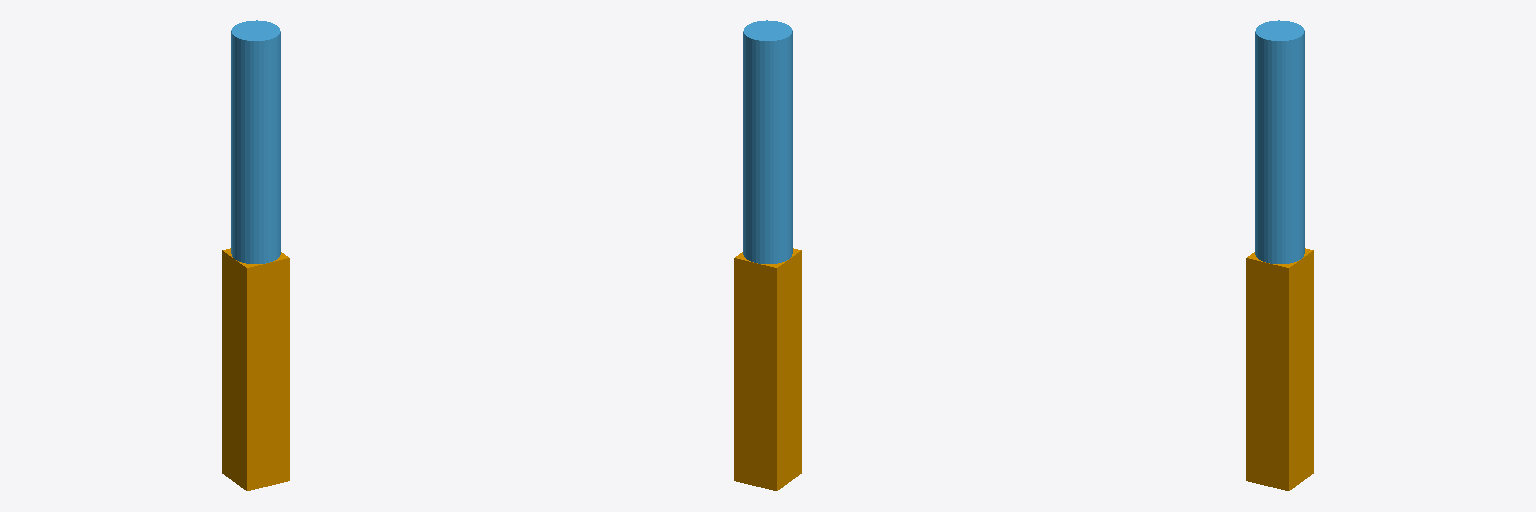
URDF robot description (one_DOF_robot):
<?xml version="1.0"?>
<robot  name="one_DOF_robot">

<!-- same as minimal robot, except no static link fixing the robot to ground -->
 <!-- Base Link -->
  <link name="link1">
    <collision>
      <origin xyz="0 0 0.5" rpy="0 0 0"/>
      <geometry>
       <box size="0.2 0.2 0.7"/>
      </geometry>
    </collision>

    <visual>
      <origin xyz="0 0 0.5" rpy="0 0 0"/>
      <geometry>
        <box size="0.2 0.2 1"/>
      </geometry>
    </visual>

    <inertial>
      <origin xyz="0 0 0.5" rpy="0 0 0"/>
      <mass value="1"/>
      <inertia
        ixx="1.0" ixy="0.0" ixz="0.0"
        iyy="1.0" iyz="0.0"
        izz="1.0"/>
    </inertial>
  </link>
  <gazebo reference="link1">
    <material>Gazebo/Blue</material>
  </gazebo>
<!-- Moveable Link -->
  <link name="link2">
    <collision>
      <origin xyz="0 0 0.5" rpy="0 0 0"/>
      <geometry>
        <cylinder length="1" radius="0.1"/>
        <!--box size="0.15 0.15 0.8"-->
      </geometry>
    </collision>

    <visual>
      <origin xyz="0 0 0.5" rpy="0 0 0"/>
      <geometry>
        <cylinder length="1" radius="0.1"/>
      </geometry>
    </visual>

    <inertial>
      <origin xyz="0 0 0.5" rpy="0 0 0"/>
      <mass value="1"/>
      <inertia
        ixx="0.1" ixy="0.0" ixz="0.0"
        iyy="0.1" iyz="0.0"
        izz="0.005"/>
    </inertial>
  </link>
  <gazebo reference="link2">
    <material>Gazebo/Red</material>
  </gazebo>

  <joint name="joint1" type="revolute">
    <parent link="link1"/>
    <child link="link2"/>
    <origin xyz="0 0 1" rpy="0 0 0"/>
    <axis xyz="0 1 0"/>
    <limit effort="10.0" lower="0.0" upper="2.0" velocity="0.5"/>
    <dynamics damping="1.0"/>
  </joint>

  <transmission name="tran1">
    <type>transmission_interface/SimpleTransmission</type>
    <joint name="joint1">
      <hardwareInterface>EffortJointInterface</hardwareInterface>
    </joint>
    <actuator name="motor1">
      <hardwareInterface>EffortJointInterface</hardwareInterface>
      <mechanicalReduction>1</mechanicalReduction>
    </actuator>
  </transmission>
  <gazebo>
     <plugin name="gazebo_ros_control" filename="libgazebo_ros_control.so">
       <robotNamespace>/one_DOF_robot</robotNamespace>
     </plugin>
  </gazebo>
  <gazebo>
     <plugin name="joint_state_publisher" filename="libgazebo_ros_joint_state_publisher.so">
       <jointName>joint1</jointName>
     </plugin>
  </gazebo>  
</robot>

--- Facts derived from the render (not from the file) ---
The picture shows the robot from 3 angles, left to right: view 1: azimuth 30°, elevation 25°; view 2: azimuth 150°, elevation 25°; view 3: azimuth 330°, elevation 25°; orthographic projection.
Model one_DOF_robot with 2 links and 1 joints (1 revolute), rooted at link1, posed every joint at zero.
Visible links, largest first — view 1: link1, link2; view 2: link1, link2; view 3: link1, link2.
Link boxes in pixels (x1,y1,x2,y2): link1: (222, 248, 289, 490); link2: (231, 20, 280, 263); link1: (734, 248, 801, 490); link2: (743, 20, 792, 263); link1: (1246, 248, 1313, 490); link2: (1255, 20, 1304, 263).
Size in the robot's own frame: 0.2 by 0.2 by 2 metres.
Geometry: primitives only (box / cylinder / sphere), no mesh files.
